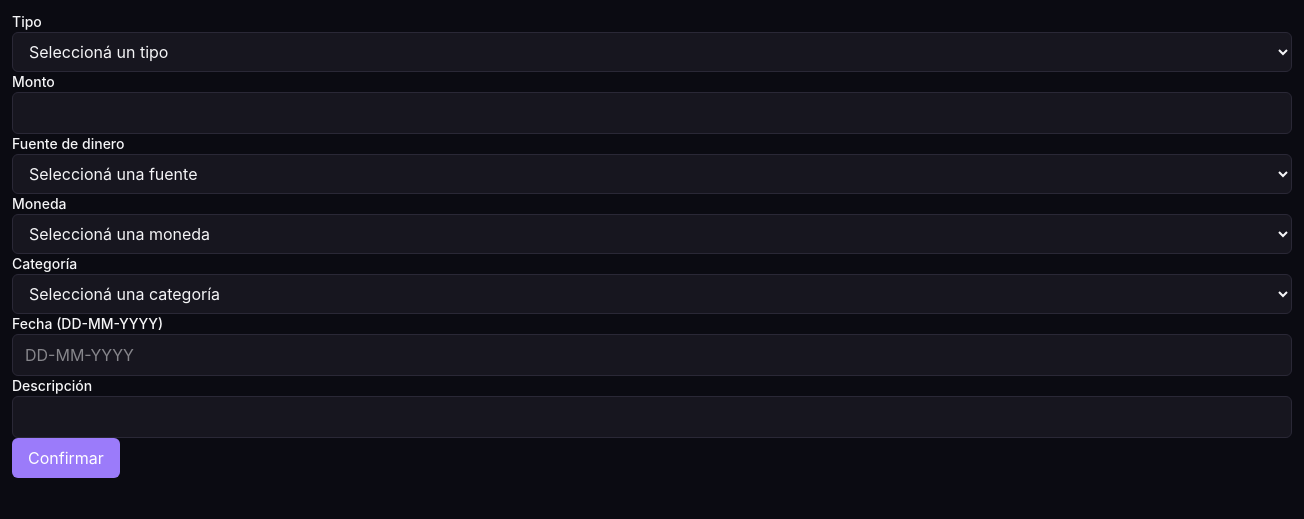
TransactionForm › enviar con fecha en formato distinto a DD-MM-YYYY → error de validación visible (AC-09)
Select "Egreso" in the dropdown labelled "Tipo" at (652, 52), box [12,32,1292,72]
Type "100" into the number field labelled "Monto" at (652, 113), box [12,92,1292,134]
Select "Efectivo" in the dropdown labelled "Fuente de dinero" at (652, 174), box [12,154,1292,194]
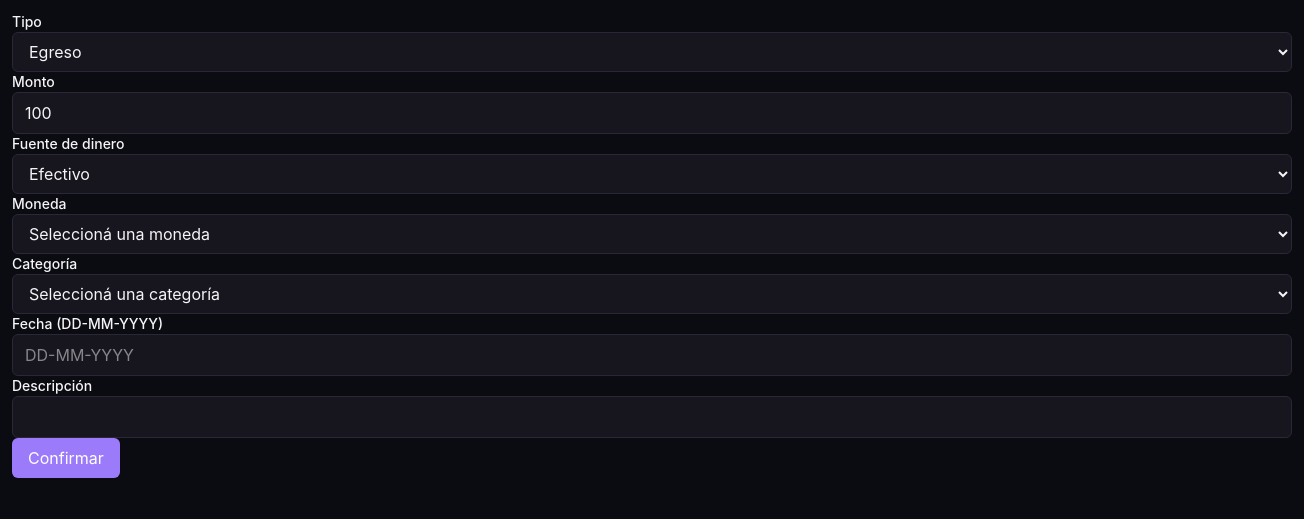
Select "ARS" in the dropdown labelled "Moneda" at (652, 234), box [12,214,1292,254]
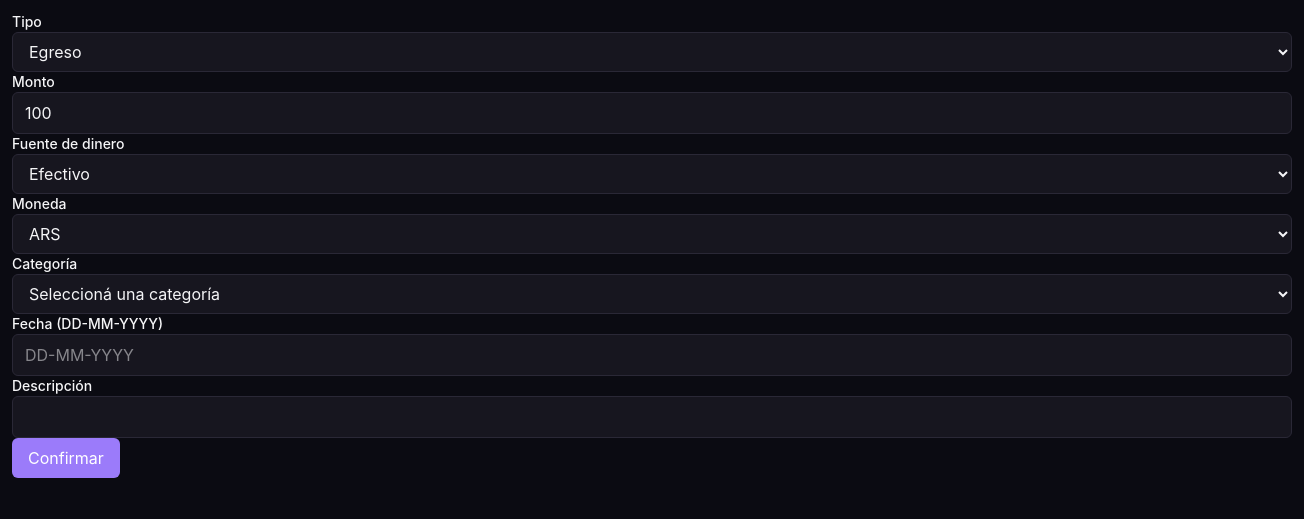
Select "General" in the dropdown labelled "Categoría" at (652, 294), box [12,274,1292,314]
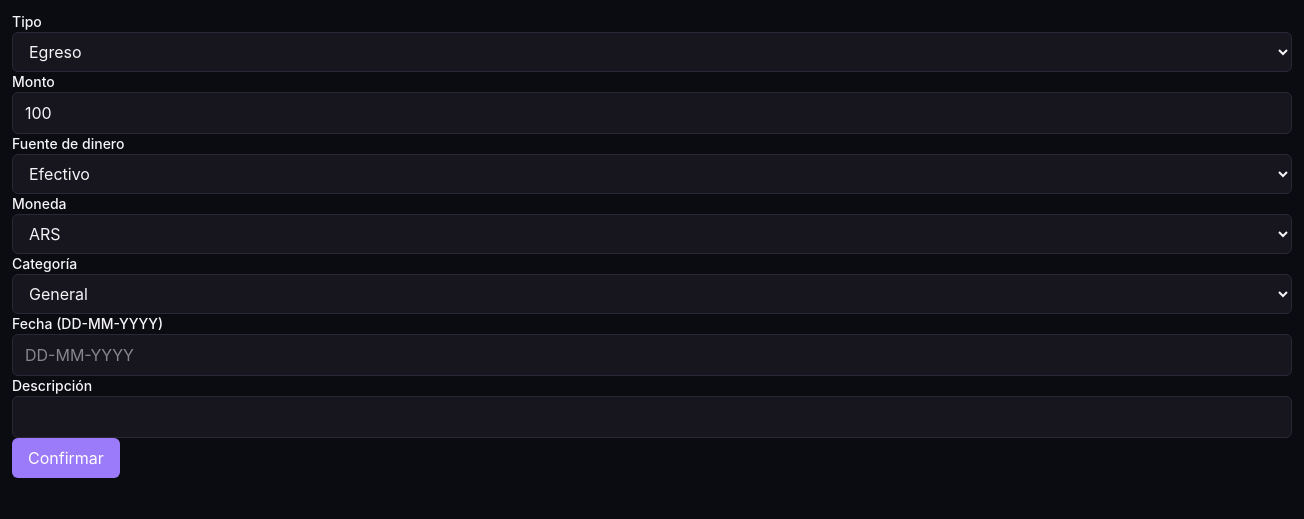
Type "2026-08-02" into the field labelled "Fecha (DD-MM-YYYY)" at (652, 355), box [12,334,1292,376]
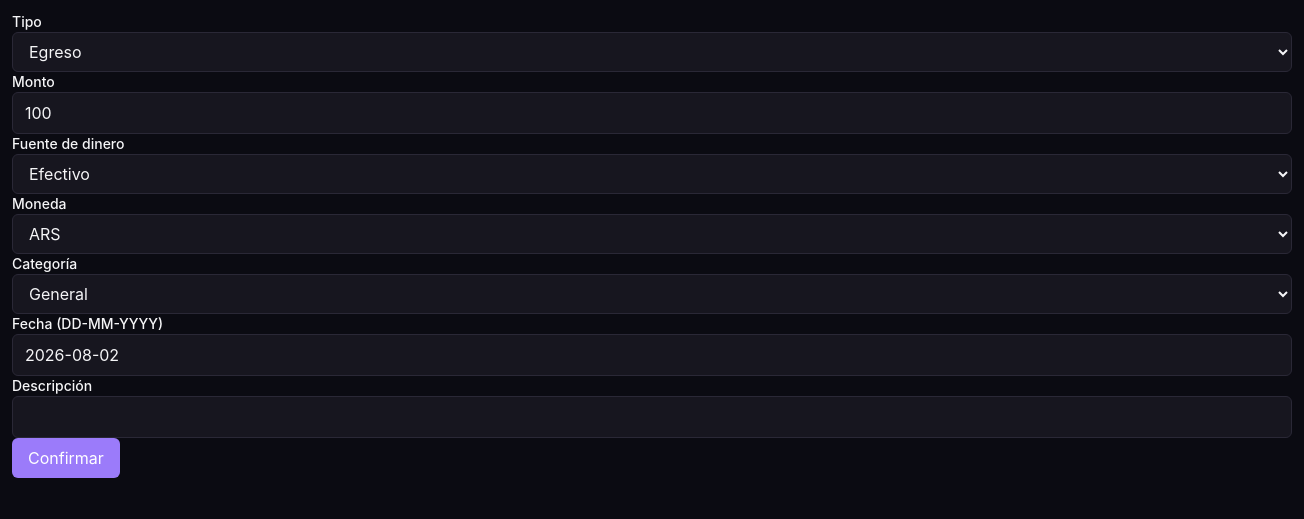
Type "Supermercado" into the field labelled "Descripción" at (652, 417), box [12,396,1292,438]
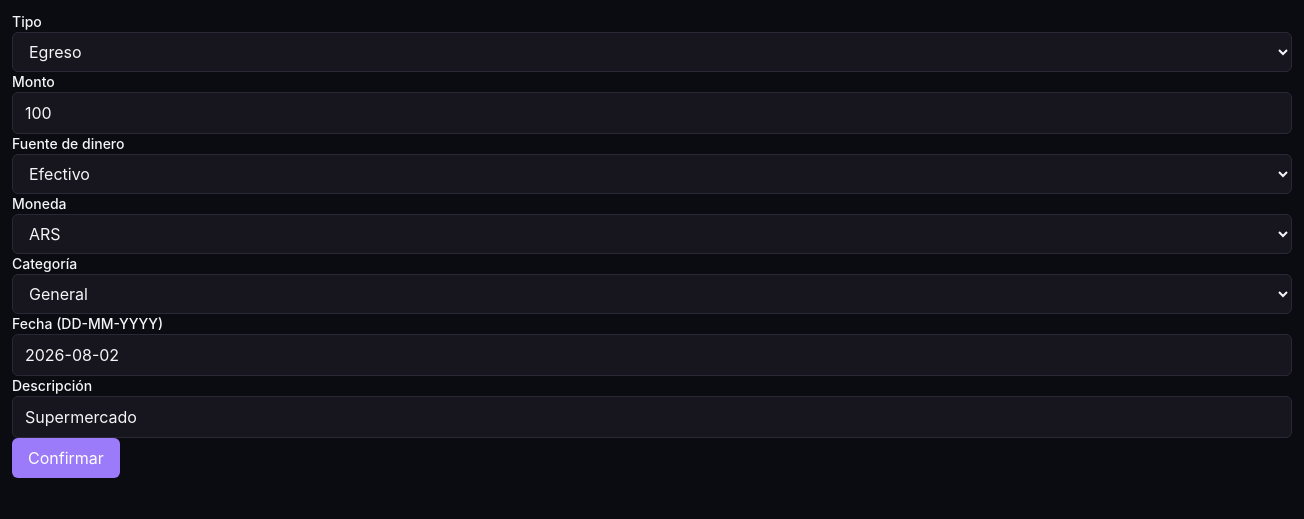
Click the button "Confirmar" at (66, 458), box [12,438,120,478]
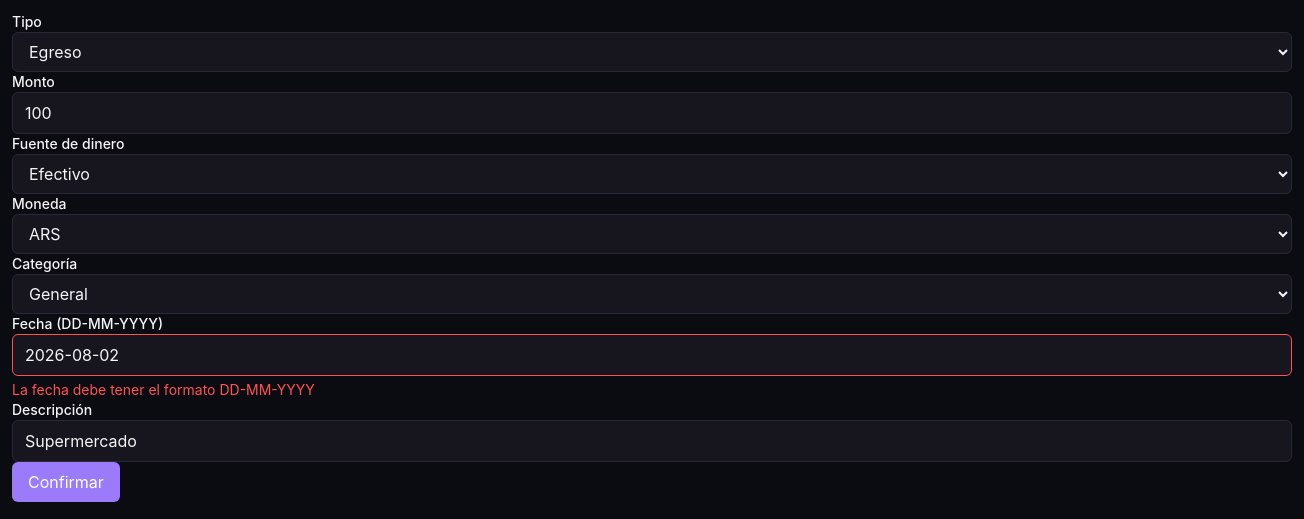
Expected: the text "La fecha debe tener el formato DD-MM-YYYY" is shown, [12,381,315,398]
